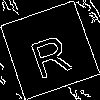R: (24, 24, 74, 80)
